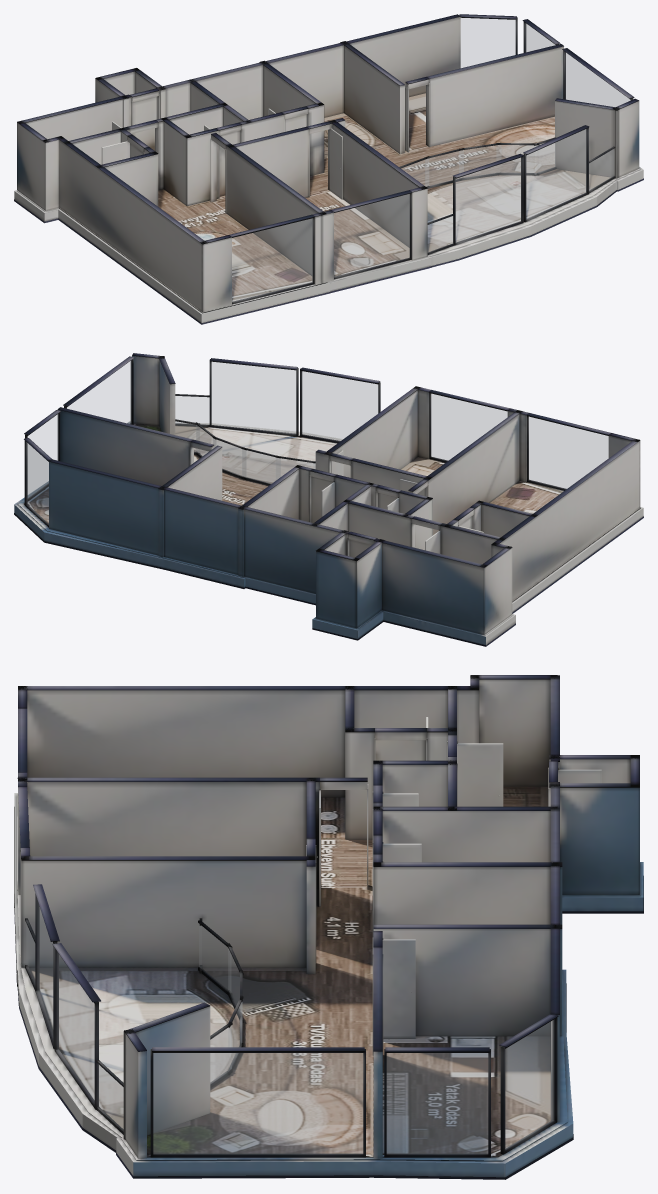
3 views of the same model, one above another, from view 1: azimuth 30°, elevation 25°; view 2: azimuth 150°, elevation 25°; view 3: azimuth 270°, elevation 25° (orthographic). The views are drawn at different scales.
Visible parts, largest first — view 1: plan, glass0_m, glass1_m, glass5_m, glass6_m, glass2_m, glass4_m, railg0_m, railg4_m, railg5_m, railg9_m, railg8_m (+1 smaller); view 2: plan, glass6_m, glass0_m, glass5_m, glass1_m, glass4_m, glass3_m, glass2_m, railg0_m, railg8_m, railg4_m; view 3: plan, glass4_m, glass3_m, glass2_m, glass6_m, glass5_m, railg2_m, railg8_m, railg5_m.
Boxes of the visible parts, left/top/right/bottom form: plan: left=14, top=14, right=643, bottom=324; glass0_m: left=232, top=218, right=312, bottom=301; glass1_m: left=334, top=194, right=409, bottom=276; glass5_m: left=456, top=158, right=521, bottom=242; glass6_m: left=526, top=129, right=586, bottom=218; glass2_m: left=461, top=18, right=515, bottom=67; glass4_m: left=565, top=52, right=630, bottom=106; railg0_m: left=425, top=150, right=463, bottom=186; railg4_m: left=459, top=145, right=500, bottom=177; railg5_m: left=497, top=145, right=538, bottom=172; railg9_m: left=428, top=216, right=453, bottom=252; railg8_m: left=589, top=149, right=614, bottom=190; plan: left=14, top=353, right=643, bottom=646; glass6_m: left=211, top=362, right=295, bottom=433; glass0_m: left=528, top=417, right=608, bottom=488; glass5_m: left=302, top=371, right=377, bottom=440; glass1_m: left=431, top=394, right=507, bottom=460; glass4_m: left=67, top=360, right=131, bottom=423; glass3_m: left=28, top=414, right=58, bottom=498; glass2_m: left=27, top=443, right=48, bottom=524; railg0_m: left=242, top=449, right=280, bottom=483; railg8_m: left=175, top=396, right=209, bottom=424; railg4_m: left=213, top=438, right=246, bottom=477; plan: left=14, top=675, right=643, bottom=1179; glass4_m: left=153, top=1053, right=362, bottom=1154; glass3_m: left=387, top=1053, right=487, bottom=1154; glass2_m: left=505, top=1020, right=553, bottom=1149; glass6_m: left=57, top=952, right=94, bottom=1101; glass5_m: left=37, top=901, right=52, bottom=1037; railg2_m: left=199, top=924, right=230, bottom=992; railg8_m: left=98, top=1064, right=123, bottom=1129; railg5_m: left=210, top=1025, right=231, bottom=1082.
Size of the model in its own units: 17.17 by 2.62 by 11.98.
Materials: 2 (1 with a texture image).
